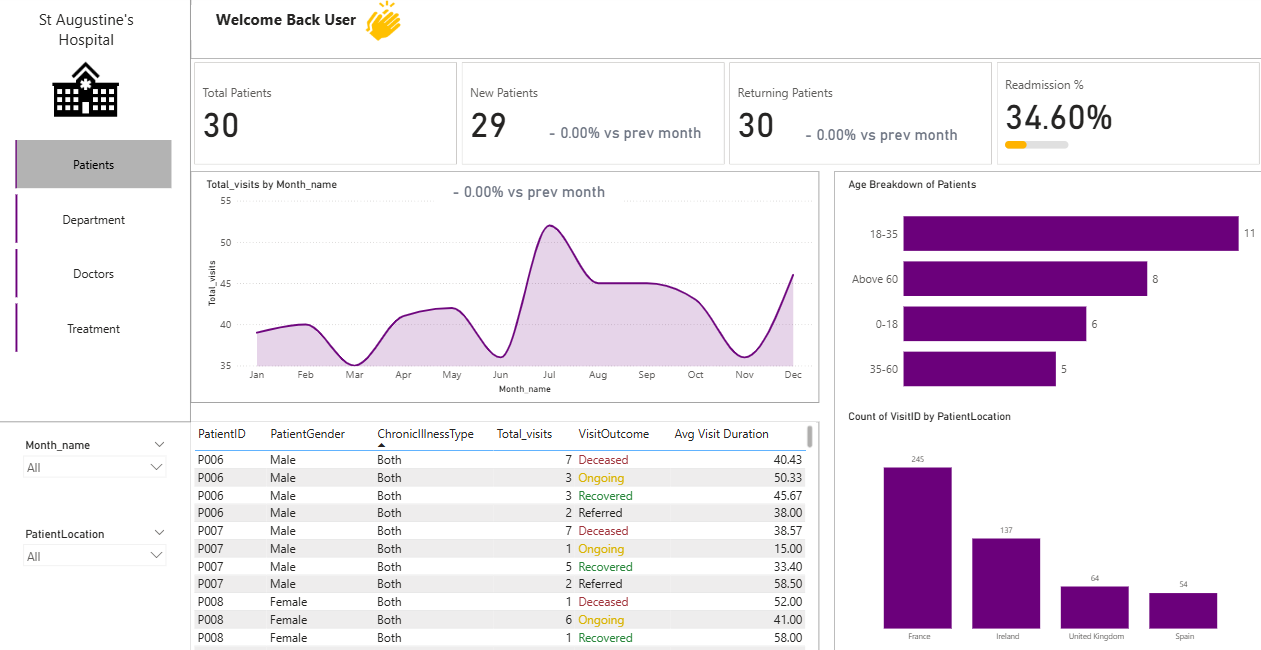

This screenshot's page, from the dashboard's own definition file:
{"tool":"powerbi","page":{"name":"Patients","canvas":[2000,1050],"ordinal":0},"visuals":[{"type":"shape","box":[306.8,0,1693.4,103.9],"z":0},{"type":"textbox","box":[306.8,19.3,299.5,55.6],"z":1000},{"type":"cardVisual","fields":{"Data":["Calculated_measures.Total_patients","Calculated_measures.New_patients","Calculated_measures.Returning Patient","Calculated_measures.Readmission %"]},"box":[306.8,103.9,1693.4,171.5],"z":2000},{"type":"shape","box":[306.8,282.6,990.4,364.8],"z":3000},{"type":"shape","box":[306.8,676.4,990.4,362.4],"z":4000},{"type":"shape","box":[1321.4,282.6,678.8,756.1],"z":5000},{"type":"clusteredBarChart","title":"Age Breakdown of Patients","fields":{"Category":["Patient_Dim.Patient Age Group"],"Y":["CountNonNull(Patient_Dim.PatientID)"]},"box":[1338.3,289.9,652.2,364.8],"z":6000},{"type":"areaChart","fields":{"Category":["Calendar_Dim.Month_name"],"Y":["Calculated_measures.Total_visits"]},"box":[326.1,289.9,966.3,345.4],"z":7000},{"type":"tableEx","fields":{"Values":["Patient_Dim.PatientID","Patient_Dim.PatientGender","Fact_table.ChronicIllnessType","Calculated_measures.Total_visits","Fact_table.VisitOutcome","Avg(Fact_table.VisitDurationMinutes)"]},"box":[306.8,676.4,985.6,374.4],"z":8000},{"type":"clusteredColumnChart","fields":{"Category":["Patient_Dim.PatientLocation"],"Y":["CountNonNull(Fact_table.VisitID)"]},"box":[1338.3,657.1,652.2,374.4],"z":9000},{"type":"shape","box":[2.4,0,304.4,676.4],"z":10000},{"type":"textbox","box":[45,20,195,85],"z":11000},{"type":"slicer","fields":{"Values":["Calendar_Dim.Month_name"]},"box":[32.5,696.9,245.1,76.8],"z":12000},{"type":"slicer","fields":{"Values":["Patient_Dim.PatientLocation"]},"box":[32.5,838.6,245.1,85.6],"z":13000},{"type":"pageNavigator","box":[31.4,231.9,246.4,335.8],"z":14000},{"type":"image","box":[53.1,87,178.8,132.9],"z":15000},{"type":"image","box":[562.9,0,94.2,87],"z":16000},{"type":"card","fields":{"Values":["Calculated_measures.Total Patient MOM2"]},"box":[690.9,289.9,297.1,43.5],"z":18000},{"type":"card","fields":{"Values":["Calculated_measures.New Patients MOM"]},"box":[841.5,189,298.2,59.1],"z":19000},{"type":"card","fields":{"Values":["Calculated_measures.Returning Patients MOM"]},"box":[1254.9,189,283.5,65],"z":20000}]}

Visuals, with their boxes on the page's 2000x1050 design canvas (x1, y1, x2, y2). These are canvas units, not pixel positions in the 1261x650 screenshot, which may show the page scaled, cropped or inside an application window:
shape: crop(307, 0, 2000, 104)
textbox: crop(307, 19, 606, 75)
cardVisual - Calculated_measures.Total_patients x Calculated_measures.New_patients: crop(307, 104, 2000, 275)
shape: crop(307, 283, 1297, 647)
shape: crop(307, 676, 1297, 1039)
shape: crop(1321, 283, 2000, 1039)
"Age Breakdown of Patients" clusteredBarChart: crop(1338, 290, 1990, 655)
areaChart - Calendar_Dim.Month_name x Calculated_measures.Total_visits: crop(326, 290, 1292, 635)
tableEx - Patient_Dim.PatientID x Patient_Dim.PatientGender: crop(307, 676, 1292, 1051)
clusteredColumnChart - Patient_Dim.PatientLocation x CountNonNull(Fact_table.VisitID): crop(1338, 657, 1990, 1032)
shape: crop(2, 0, 307, 676)
textbox: crop(45, 20, 240, 105)
slicer - Calendar_Dim.Month_name: crop(32, 697, 278, 774)
slicer - Patient_Dim.PatientLocation: crop(32, 839, 278, 924)
pageNavigator: crop(31, 232, 278, 568)
image: crop(53, 87, 232, 220)
image: crop(563, 0, 657, 87)
card - Calculated_measures.Total Patient MOM2: crop(691, 290, 988, 333)
card - Calculated_measures.New Patients MOM: crop(842, 189, 1140, 248)
card - Calculated_measures.Returning Patients MOM: crop(1255, 189, 1538, 254)
